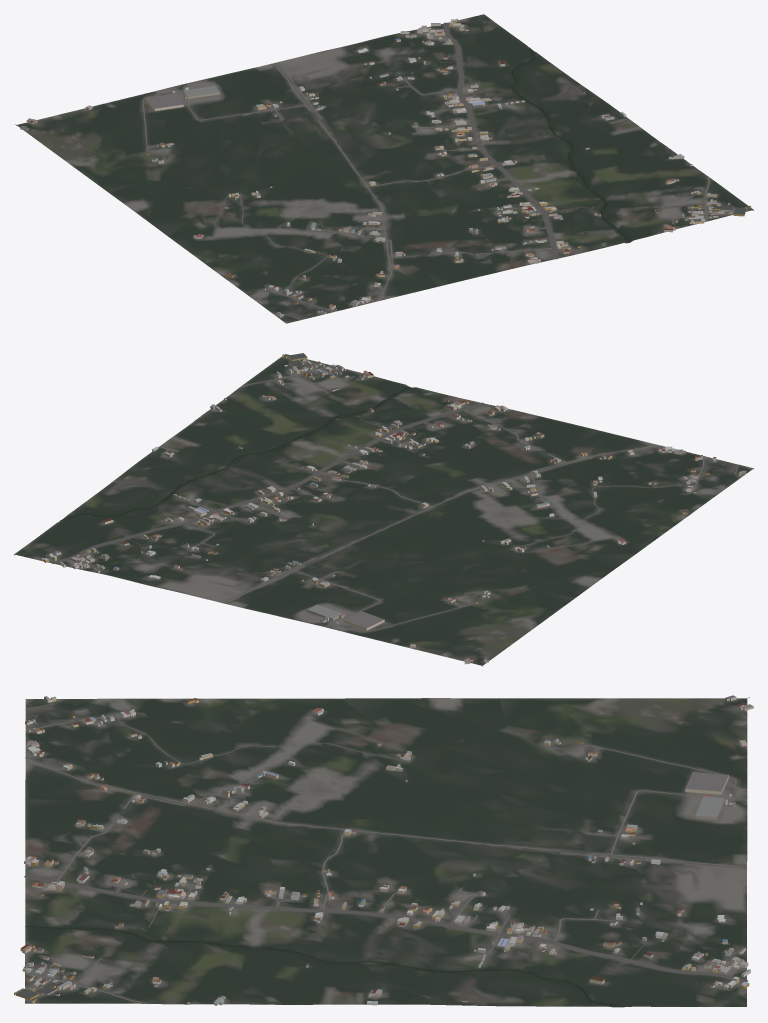
3 views of the same model, one above another, from view 1: azimuth 30°, elevation 25°; view 2: azimuth 150°, elevation 25°; view 3: azimuth 270°, elevation 25° (orthographic). The views are drawn at different scales.
Parts seen in each view (by area): view 1: ground, buildings, roads; view 2: ground, buildings, roads; view 3: ground, buildings, roads, water.
Part boxes in pixels (box(x1,y1,x2,y2)): ground: box(16, 14, 753, 323); buildings: box(20, 18, 751, 318); roads: box(15, 22, 733, 322); ground: box(14, 354, 753, 665); buildings: box(41, 353, 746, 664); roads: box(50, 359, 748, 666); ground: box(25, 698, 747, 1007); buildings: box(14, 695, 753, 1005); roads: box(24, 697, 749, 1004); water: box(25, 926, 624, 1006).
Size of the model in its own units: 1407 by 21.5 by 1436.
